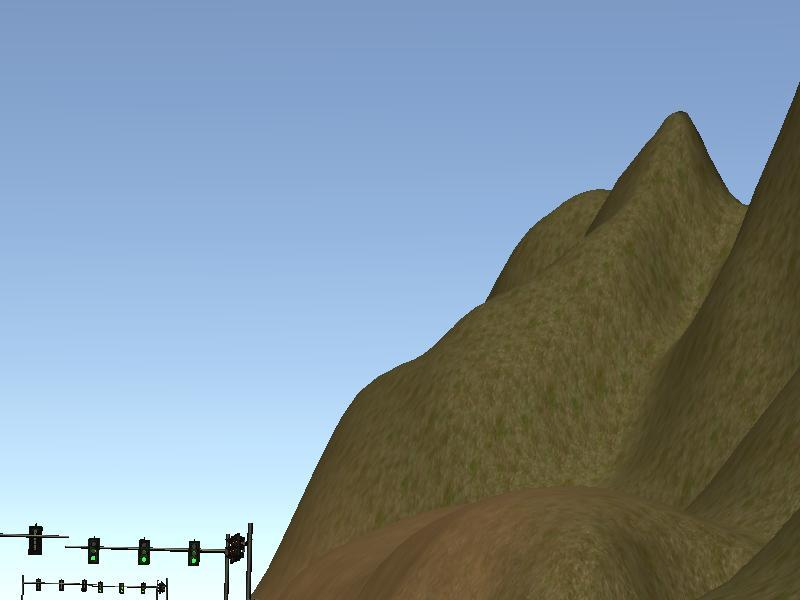Green: (86, 537, 99, 565), (137, 537, 150, 565), (187, 538, 200, 566)
